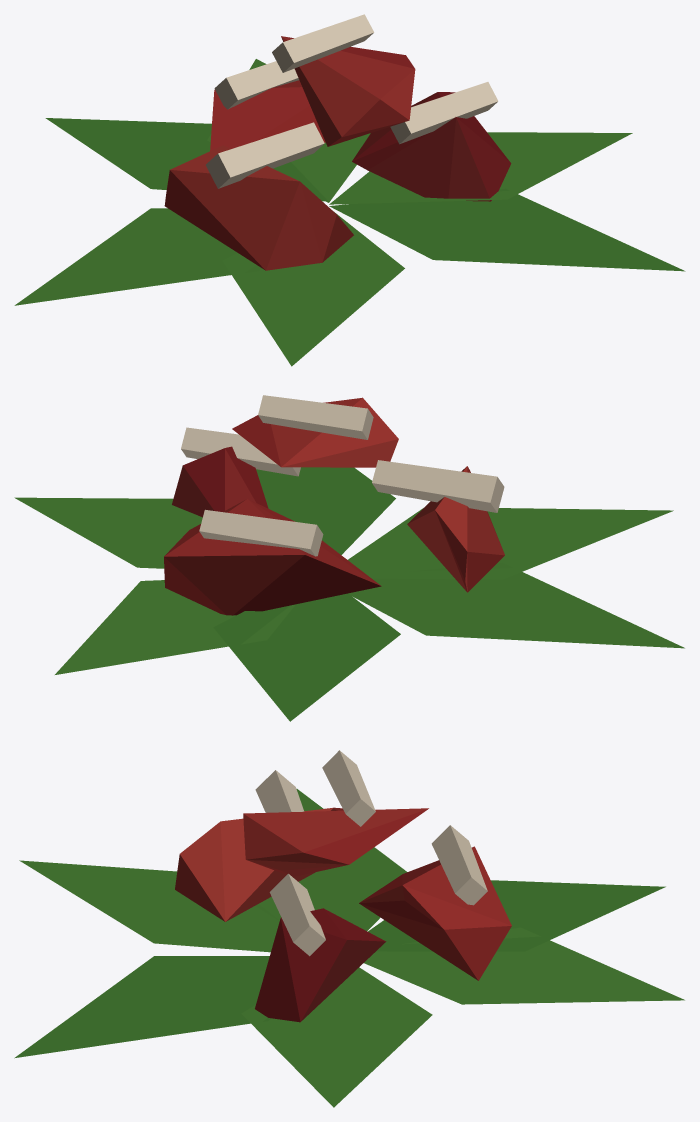
Rendered from storage_meat.glb.
3 views of the same model, one above another, from view 1: azimuth 30°, elevation 25°; view 2: azimuth 150°, elevation 25°; view 3: azimuth 270°, elevation 25° (orthographic). The views are drawn at different scales.
Visible parts, largest first — view 1: storage_meat; view 2: storage_meat; view 3: storage_meat.
Boxes of the visible parts, x1,y1,x2,y2 form: storage_meat: (14, 14, 685, 366); storage_meat: (14, 395, 684, 721); storage_meat: (14, 750, 684, 1107).
Bounding box in the file's own units: 1.8 × 0.4823 × 1.58.
